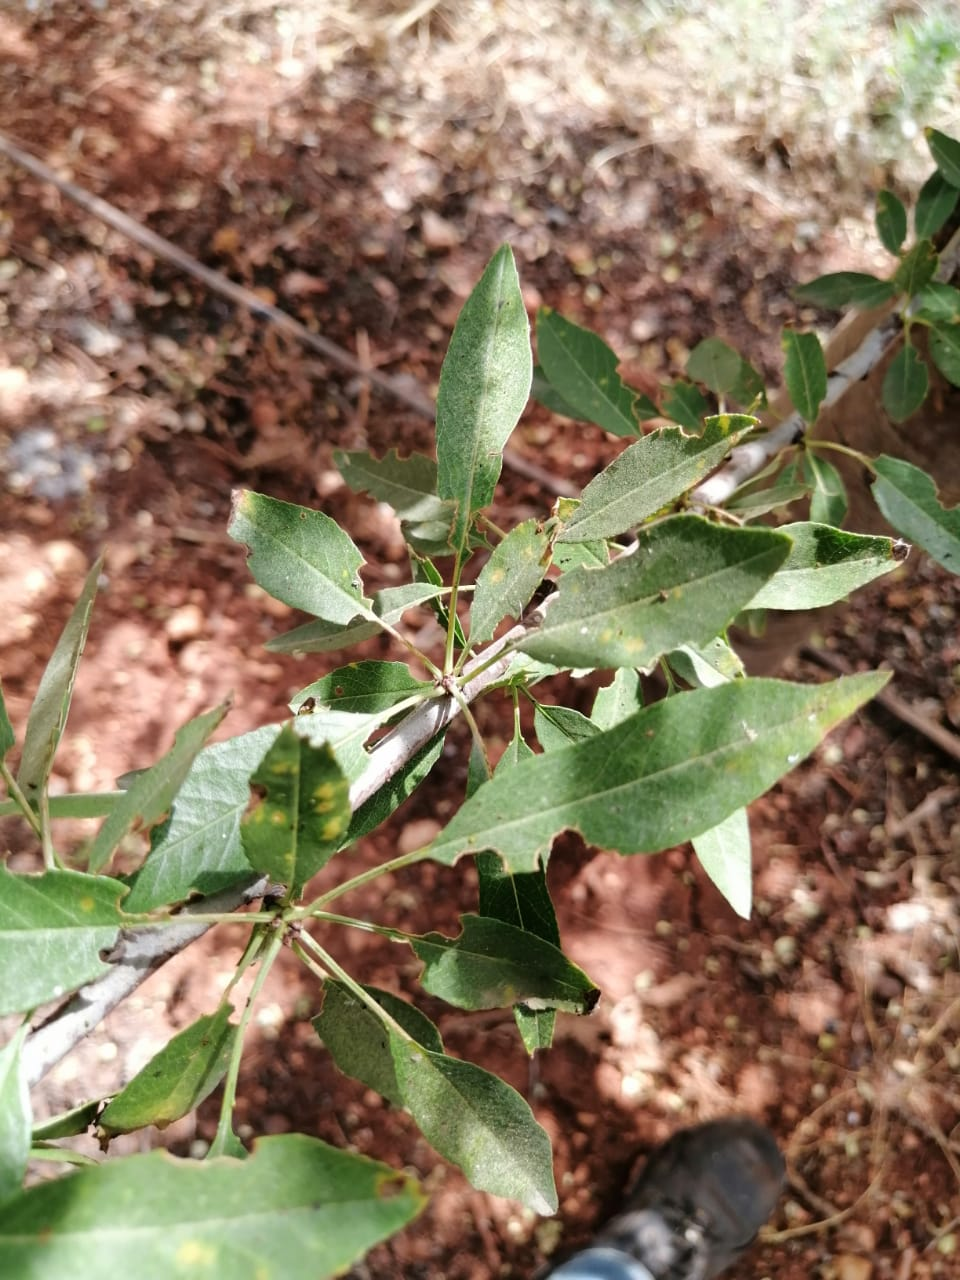othyorinques: (390, 665, 892, 876), (309, 961, 560, 1218), (514, 514, 794, 673), (433, 240, 537, 556), (552, 408, 761, 546), (228, 487, 392, 633), (382, 913, 603, 1019)
